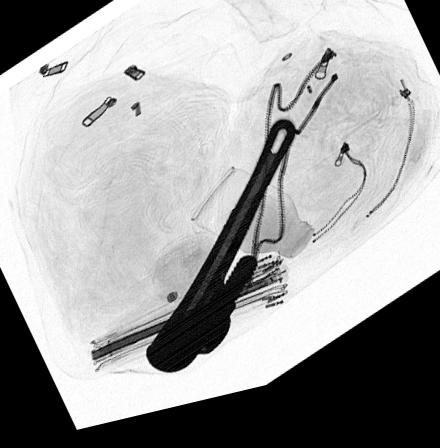Wrench: (143, 131, 298, 383)
